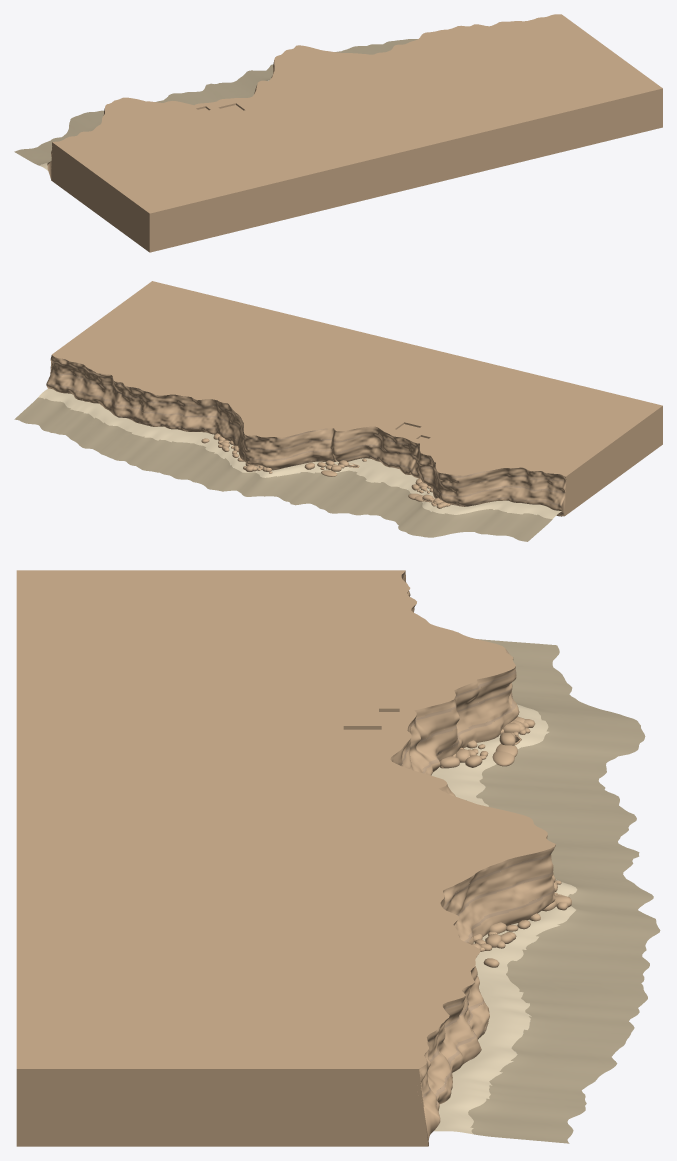
Rendered from coast.glb.
3 views of the same model, one above another, from view 1: azimuth 30°, elevation 25°; view 2: azimuth 150°, elevation 25°; view 3: azimuth 270°, elevation 25° (orthographic). The views are drawn at different scales.
Visible parts, largest first — view 1: coast_shared_golden coastal sandstone, coast_shared_dry beach sand; view 2: coast_shared_golden coastal sandstone, coast_shared_dry beach sand; view 3: coast_shared_golden coastal sandstone, coast_shared_dry beach sand.
Part boxes in pixels (box(x1,y1,x2,y2)): coast_shared_golden coastal sandstone: box(47, 14, 662, 252); coast_shared_dry beach sand: box(14, 39, 417, 170); coast_shared_golden coastal sandstone: box(46, 281, 662, 516); coast_shared_dry beach sand: box(14, 388, 561, 541); coast_shared_golden coastal sandstone: box(16, 570, 571, 1146); coast_shared_dry beach sand: box(431, 639, 660, 1143).
Bounding box in the file's own units: 112 × 8.14 × 61.12.
